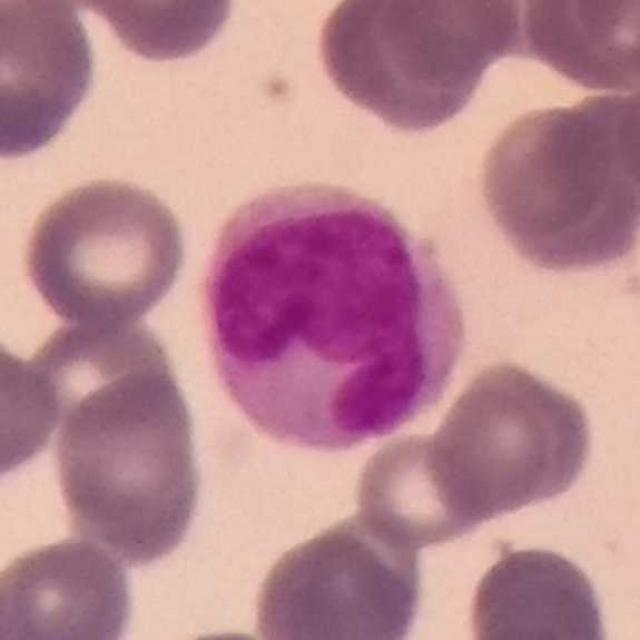mono: (205, 178, 470, 451)
